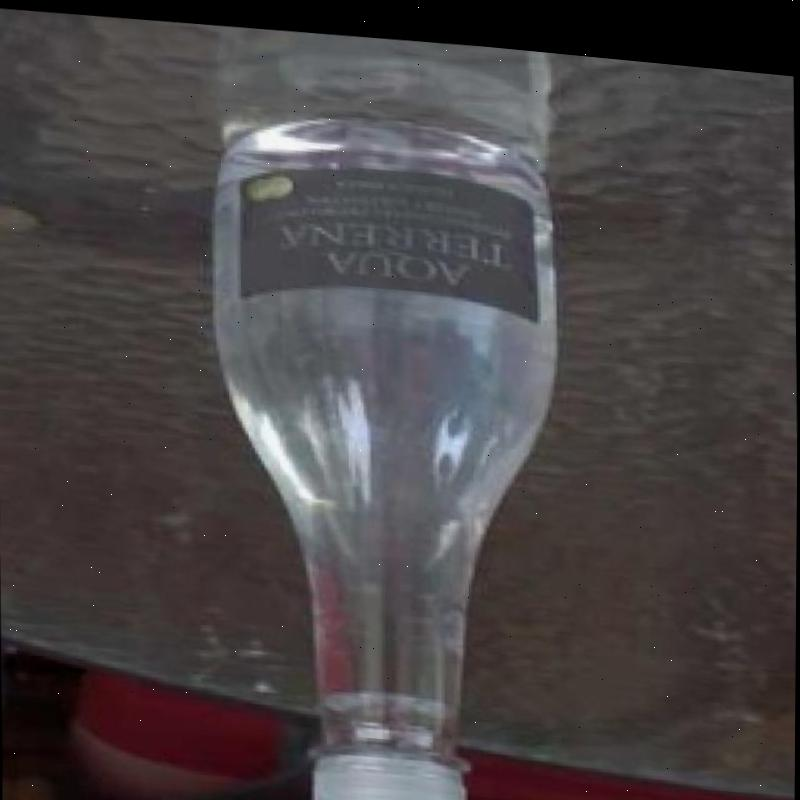botella: (202, 92, 569, 800)
